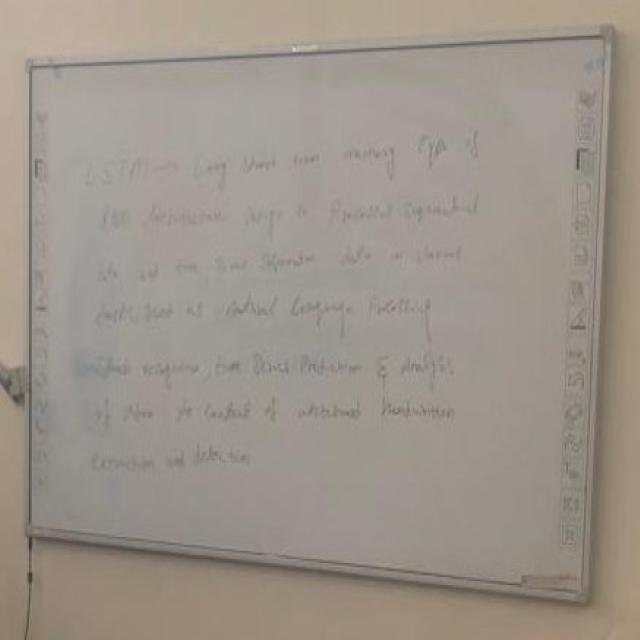White-board: (31, 40, 612, 600)
